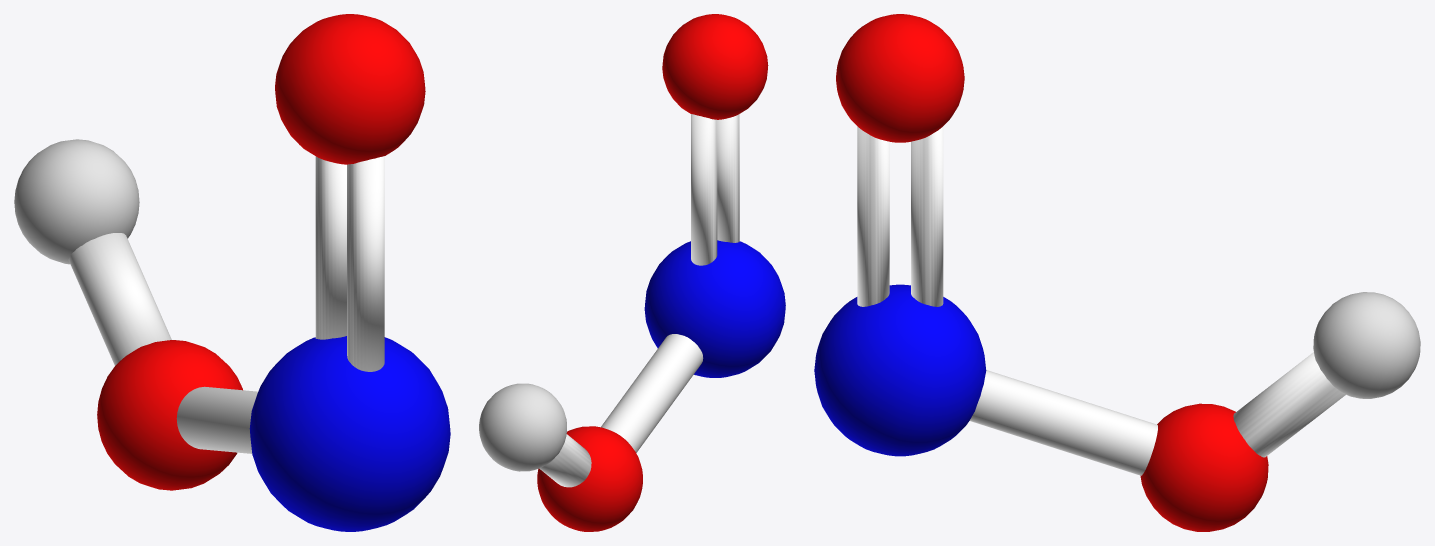
The picture shows the model from 3 angles, left to right: view 1: azimuth 30°, elevation 25°; view 2: azimuth 150°, elevation 25°; view 3: azimuth 270°, elevation 25°; orthographic projection. The views are drawn at different scales.
Parts seen in each view (by area): view 1: s-o-h.001; view 2: s-o-h.001; view 3: s-o-h.001.
Boxes of the visible parts, <box> form: s-o-h.001: <box>14,14,450,531</box>; s-o-h.001: <box>479,14,785,531</box>; s-o-h.001: <box>814,14,1420,531</box>.
Size of the model in its own units: 160 by 520 by 564.
